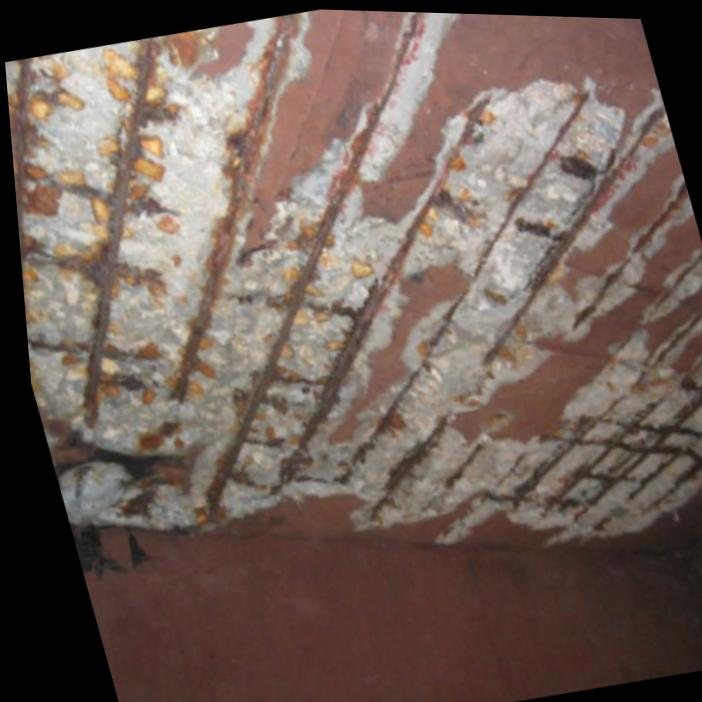damage: (4, 7, 702, 557)
